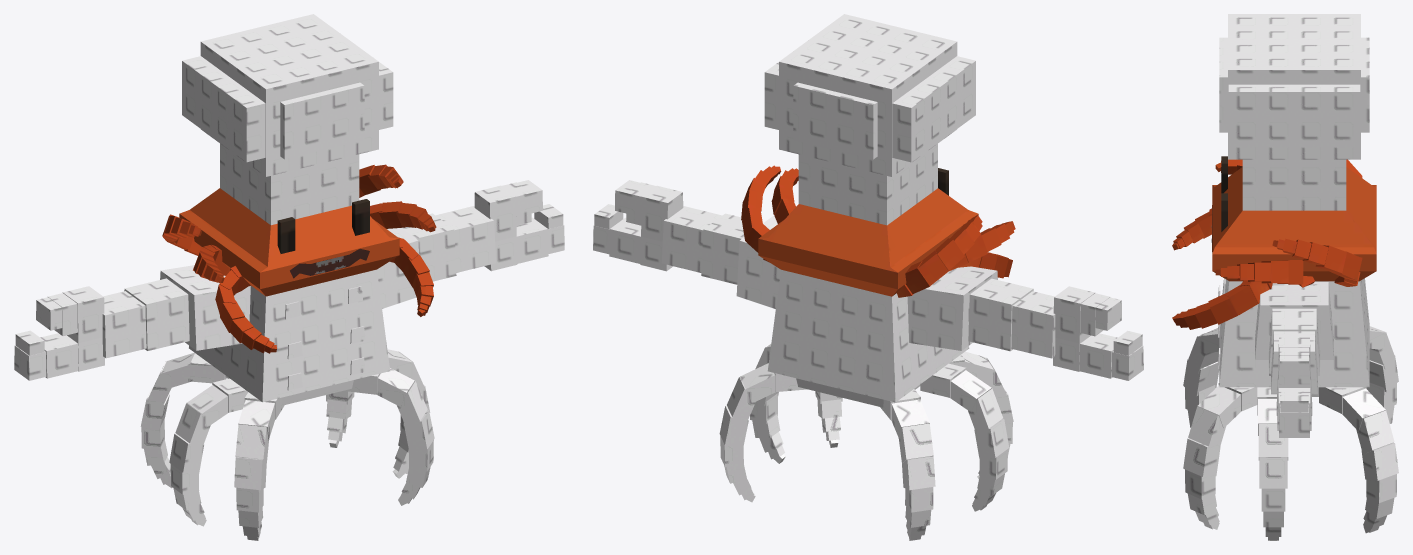
Rendered from Chef Crabracadabra.obj.
3 views of the same model, side by side, from view 1: azimuth 30°, elevation 25°; view 2: azimuth 150°, elevation 25°; view 3: azimuth 270°, elevation 25° (orthographic).
Parts seen in each view (by area): view 1: Cube1, Cube0011, Cube0021, Cube0041; view 2: Cube1, Cube0011, Cube0021; view 3: Cube1, Cube0011, Cube0021.
Boxes of the visible parts, x1=… form: Cube1: x1=160, y1=14, x2=418, y2=402; Cube0011: x1=14, y1=180, x2=564, y2=540; Cube0021: x1=162, y1=164, x2=436, y2=353; Cube0041: x1=285, y1=286, x2=365, y2=390; Cube1: x1=736, y1=14, x2=997, y2=402; Cube0011: x1=593, y1=180, x2=1143, y2=540; Cube0021: x1=741, y1=165, x2=1015, y2=297; Cube1: x1=1219, y1=14, x2=1369, y2=387; Cube0011: x1=1183, y1=308, x2=1398, y2=540; Cube0021: x1=1172, y1=156, x2=1376, y2=329.
Size of the model in its own units: 9.66 by 7.62 by 3.48.
4 materials, 4 textured.
